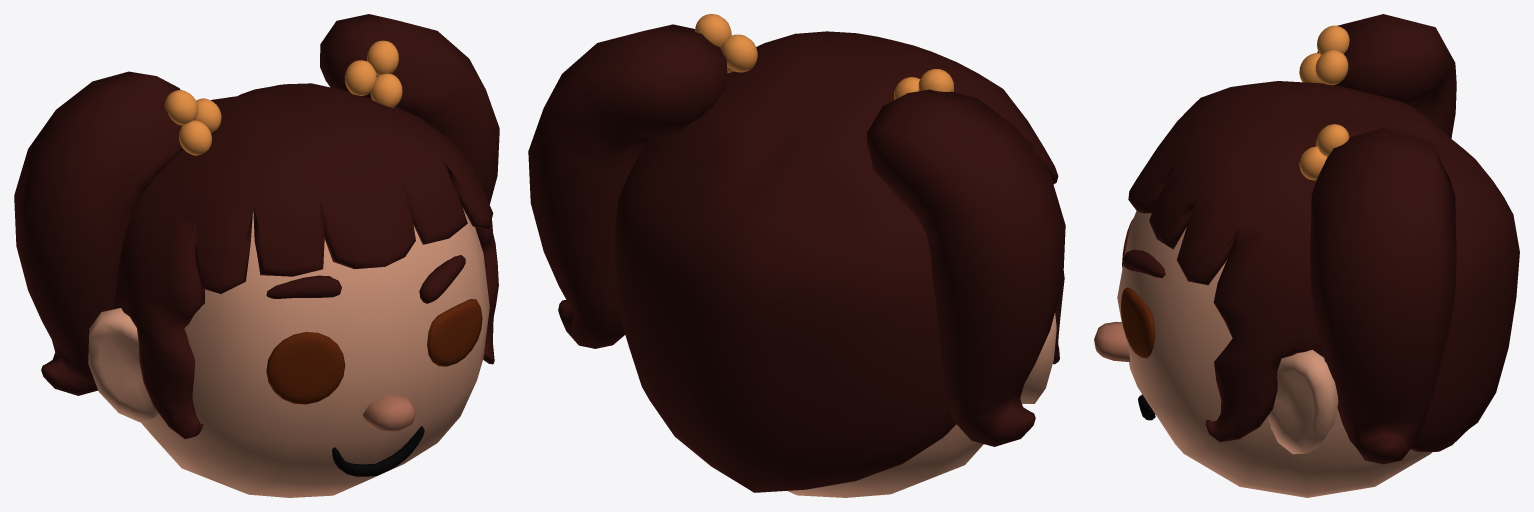
The model's file is girl_1.dae.
3 renders of one model, left to right at view 1: azimuth 30°, elevation 25°; view 2: azimuth 150°, elevation 25°; view 3: azimuth 270°, elevation 25°, orthographic. The views are drawn at different scales.
Visible parts, largest first — view 1: Hair, Head, Eye_R, Eye_L, Brow_R, Mouth, Brow_L; view 2: Hair, Head; view 3: Hair, Head, Eye_L, Brow_L.
Part boxes in pixels (x1,y1,x2,y2): Hair: [14, 14, 499, 439]; Head: [88, 208, 489, 497]; Eye_R: [266, 332, 345, 404]; Eye_L: [427, 299, 482, 366]; Brow_R: [266, 275, 341, 298]; Mouth: [332, 426, 424, 476]; Brow_L: [419, 255, 465, 303]; Hair: [528, 14, 1065, 492]; Head: [788, 313, 1056, 497]; Hair: [1128, 14, 1519, 464]; Head: [1094, 211, 1432, 497]; Eye_L: [1121, 287, 1154, 358]; Brow_L: [1123, 250, 1165, 277].
Bounding box in the file's own units: 0.9555 × 0.7738 × 0.8045.
